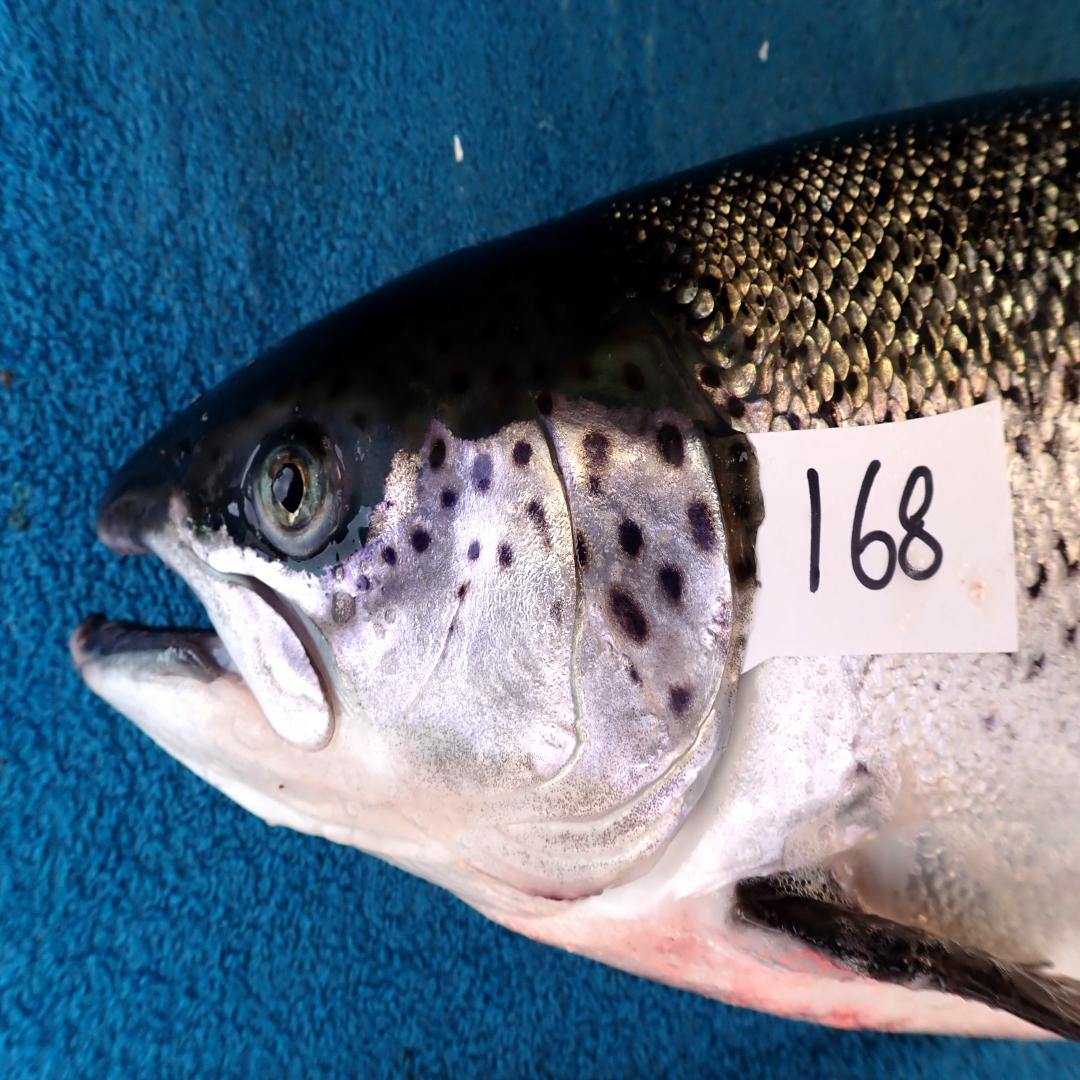roi: (339, 394, 743, 923)
